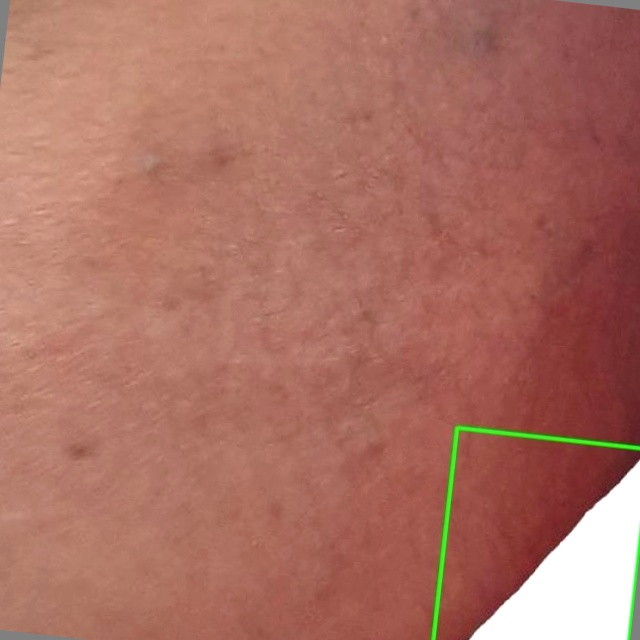Contact Dermatitis: (433, 427, 639, 639)
